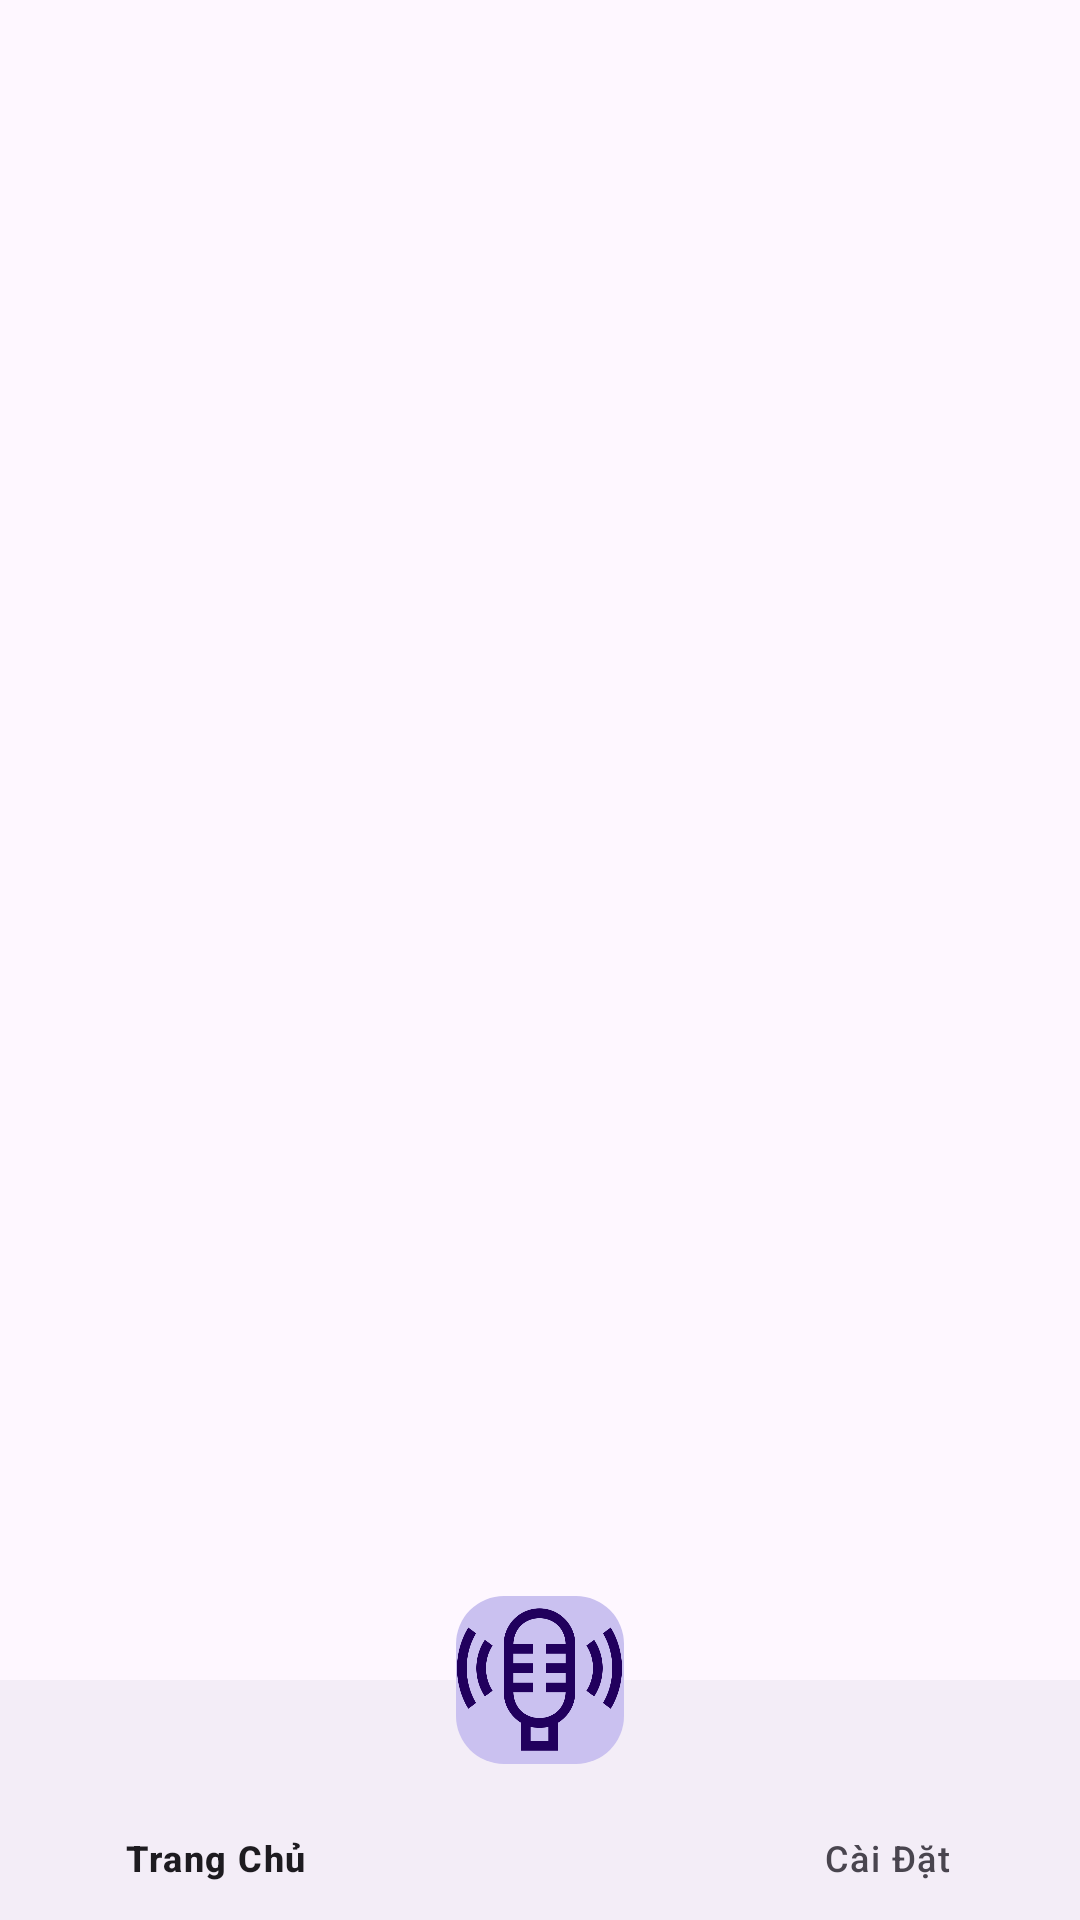

Icons on this 1080x1920 Android screen, each with its box as (x1, y1, x2, y2):
Voice input: (456, 1632, 624, 1764)
